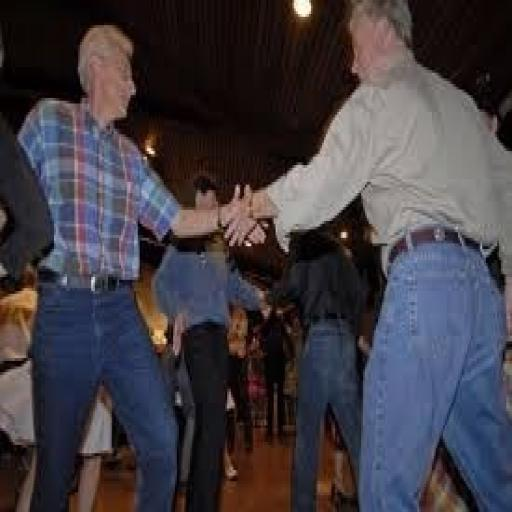dancing: (229, 0, 510, 509), (15, 20, 262, 509)
